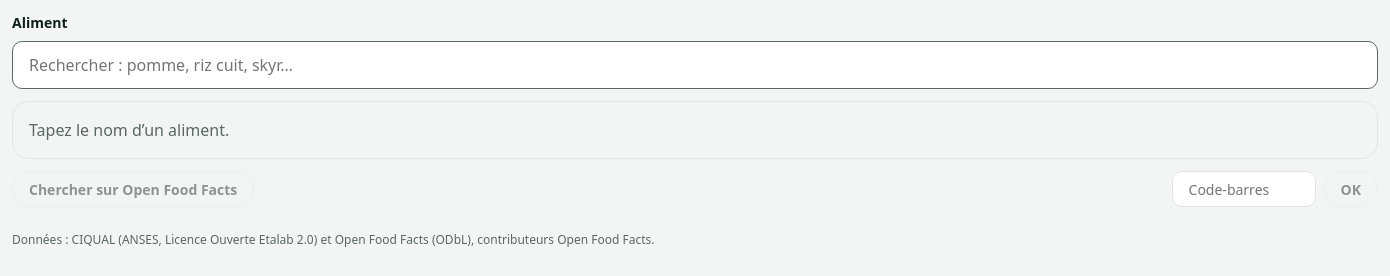
FoodPicker › selects a product found by barcode
Type "30176-204 22003" into the field labelled "Code-barres" at [1244, 189], box [1172, 171, 1316, 207]
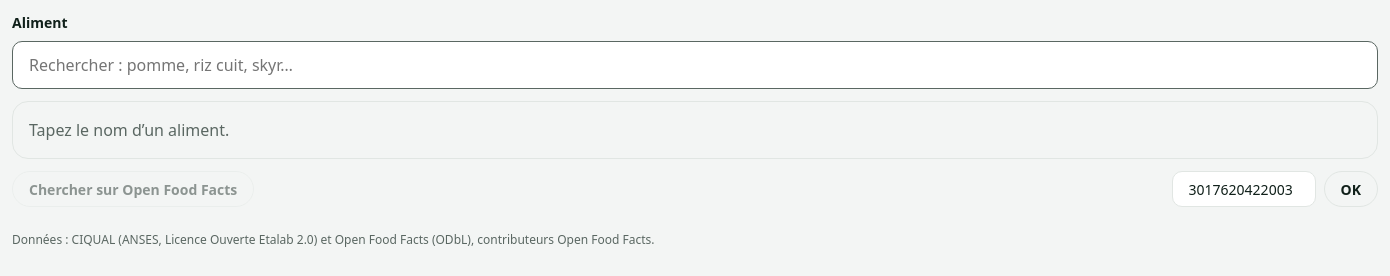
Click the button "OK" at [1351, 189], box [1324, 171, 1378, 207]
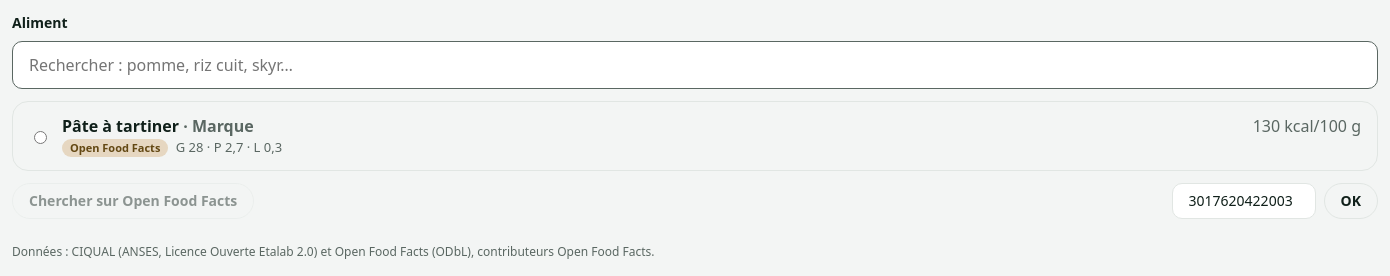
expect the text "Open Food Facts" is shown: met, box [62, 139, 168, 157]
